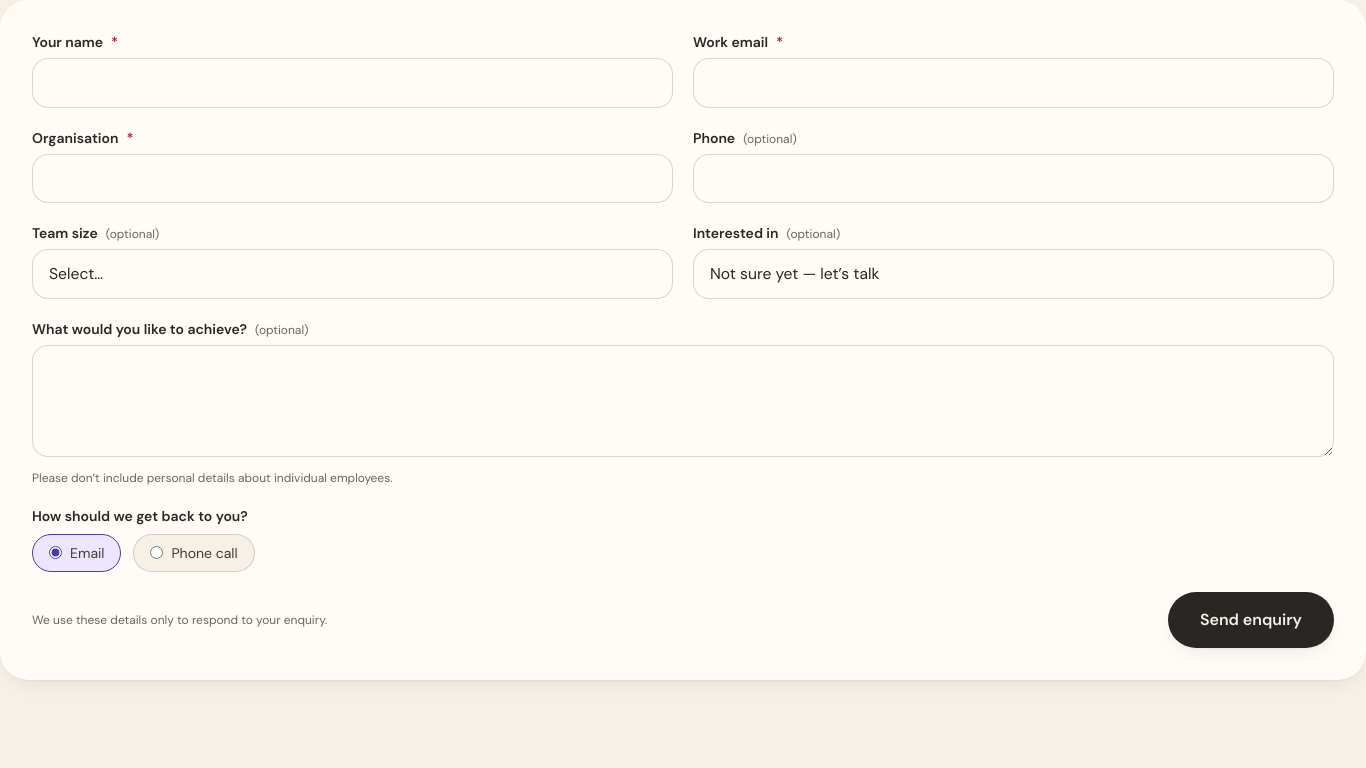
EnquiryForm › never shows success when the insert fails
This screenshot has width=1366, height=768.
Type "Achieng Otieno" into the field labelled "Your name *" at (352, 83), box x1=32 y1=58 x2=673 y2=108
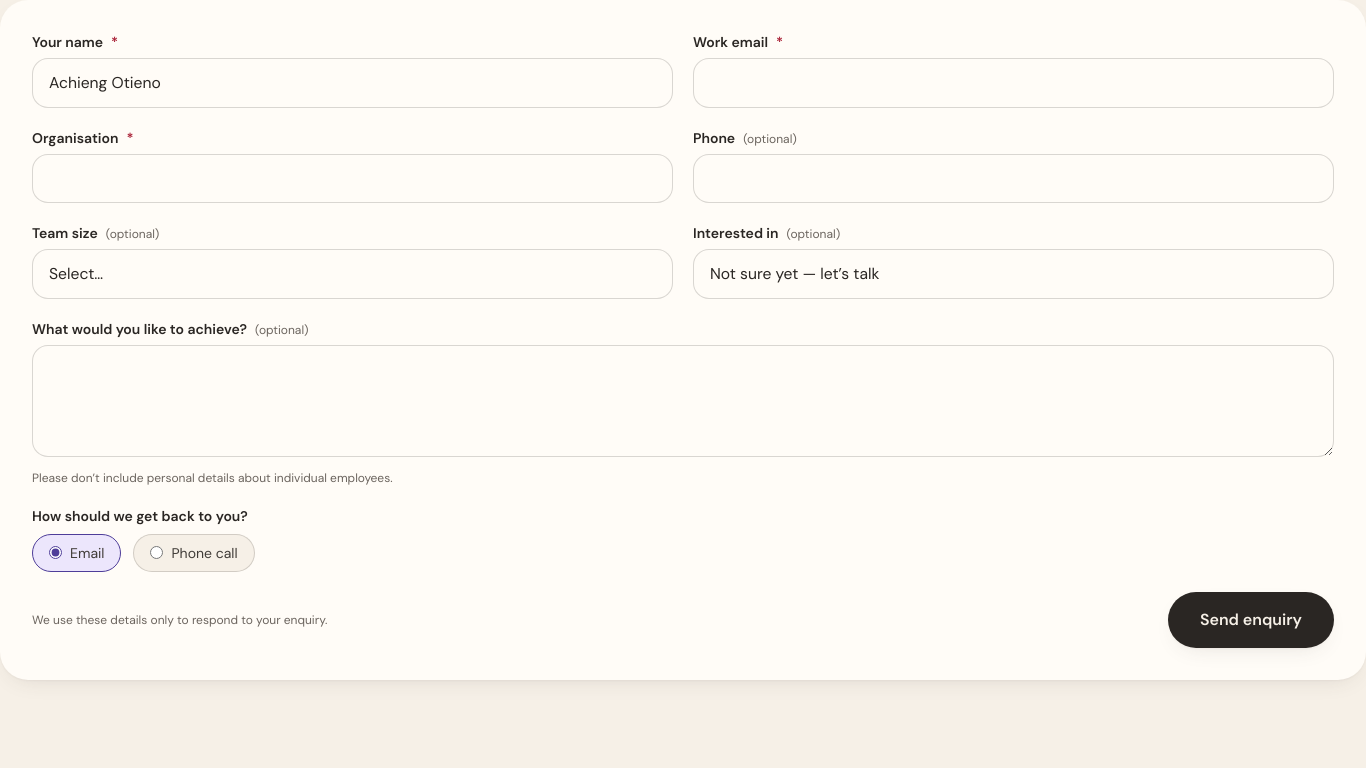
Type "achieng@example.co.ke" into the field labelled "Work email *" at (1014, 83), box x1=693 y1=58 x2=1334 y2=108
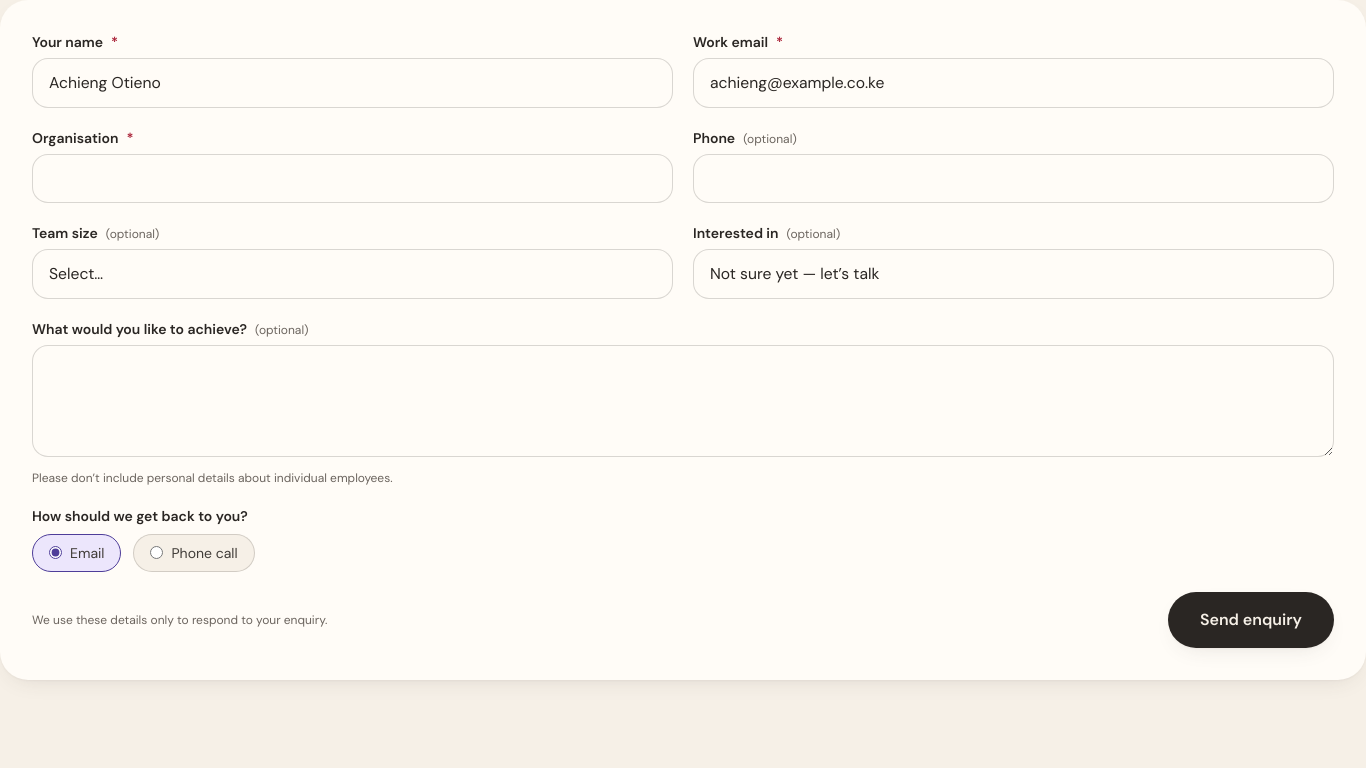
Type "Example Ltd" into the field labelled "Organisation *" at (352, 178), box x1=32 y1=154 x2=673 y2=203
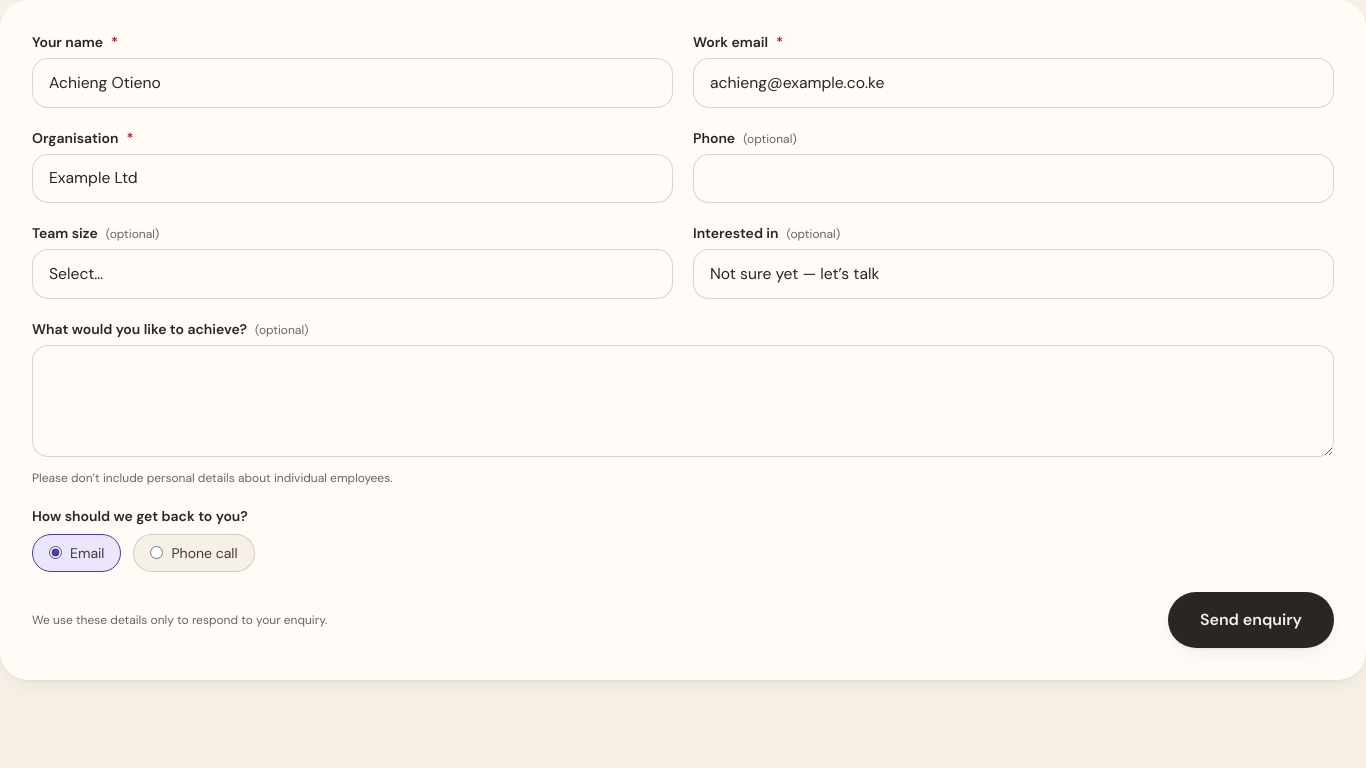
Click the button "Send enquiry" at (1251, 620), box x1=1168 y1=592 x2=1334 y2=648
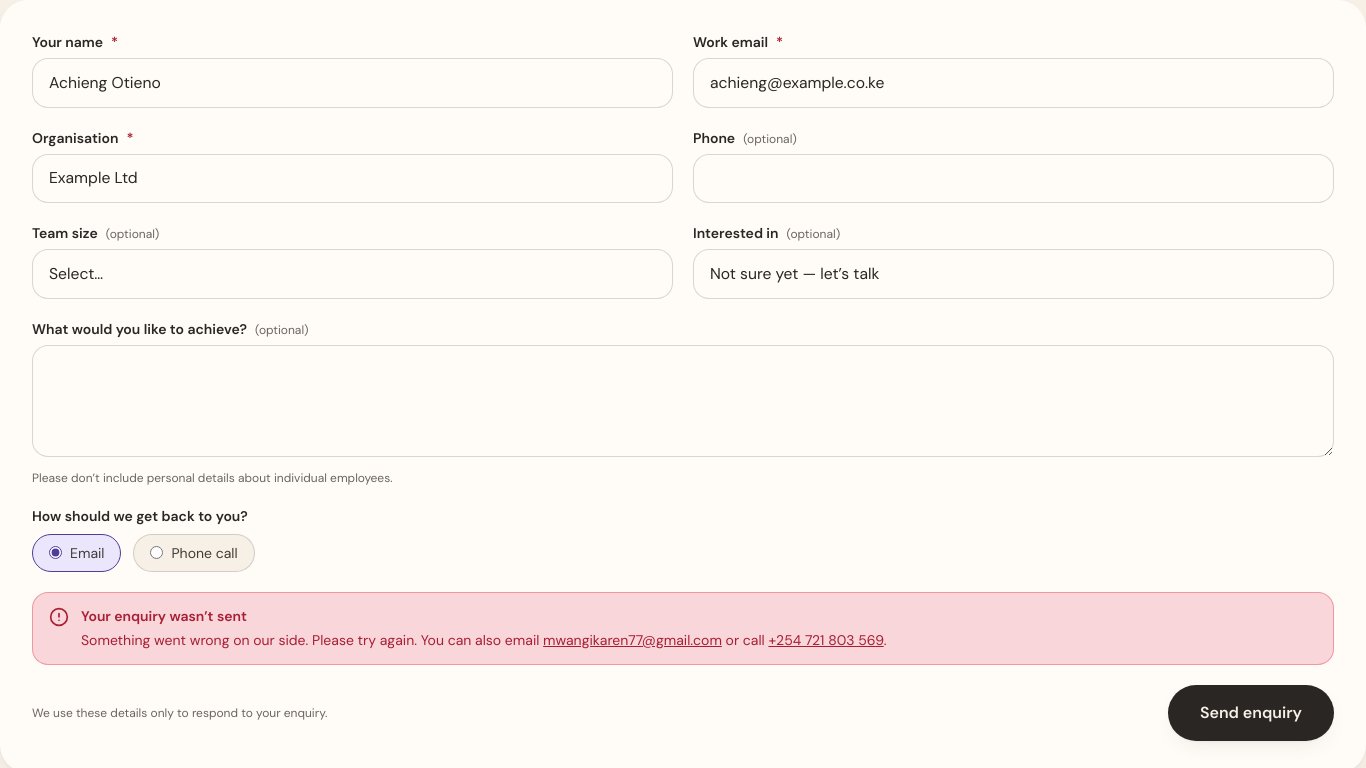
Check: the text "Your enquiry wasn’t sent" is shown, box x1=81 y1=606 x2=247 y2=624
